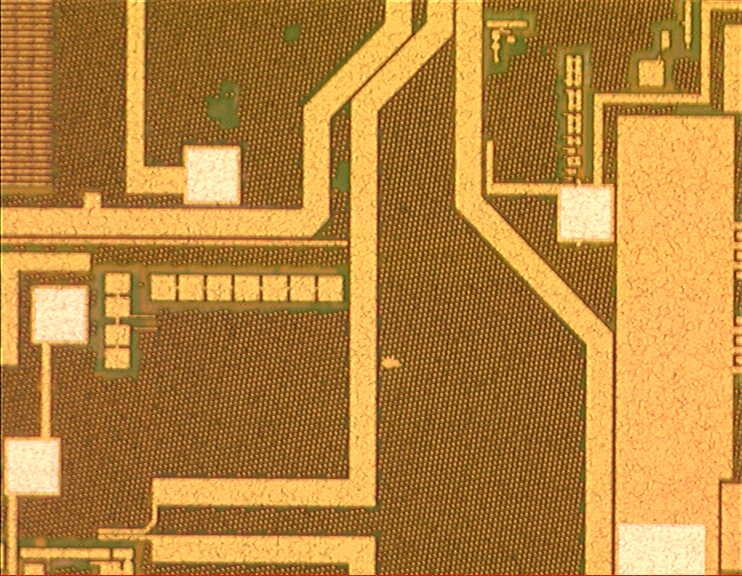BLOCK ETCH: (377, 348, 409, 380)
